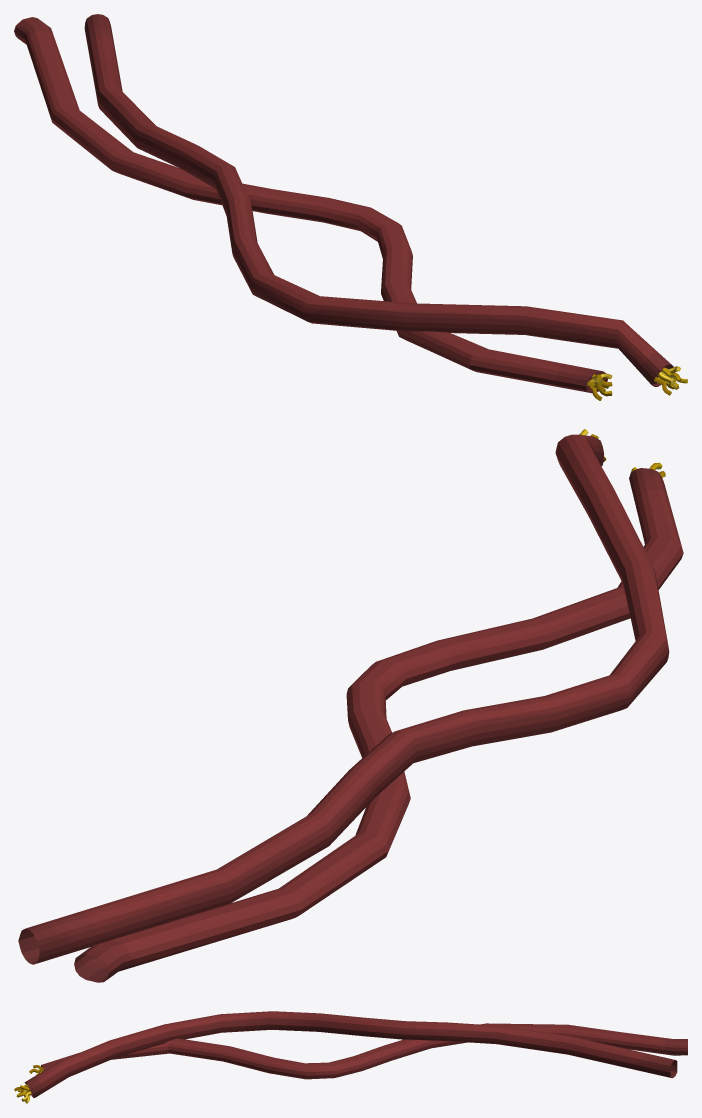
File: Cables.fbx
The picture shows the model from 3 angles, top to bottom: view 1: azimuth 30°, elevation 25°; view 2: azimuth 150°, elevation 25°; view 3: azimuth 270°, elevation 25°; orthographic projection. The views are drawn at different scales.
Visible parts, largest first — view 1: pCube2, pCube1; view 2: pCube2, pCube1; view 3: pCube2, pCube1.
Boxes of the visible parts, x1=… form: pCube2: x1=84, y1=14, x2=673, y2=386; pCube1: x1=14, y1=17, x2=607, y2=393; pCube2: x1=18, y1=434, x2=669, y2=964; pCube1: x1=74, y1=468, x2=683, y2=982; pCube2: x1=24, y1=1011, x2=677, y2=1097; pCube1: x1=41, y1=1023, x2=687, y2=1079.
Bounding box in the file's own units: 128 × 28.57 × 477.
1 material, 1 textured.
